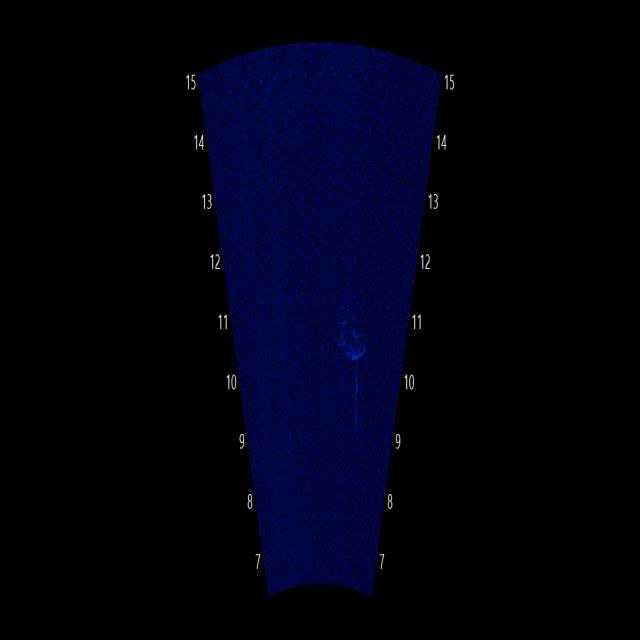circle: (333, 274, 373, 370)
